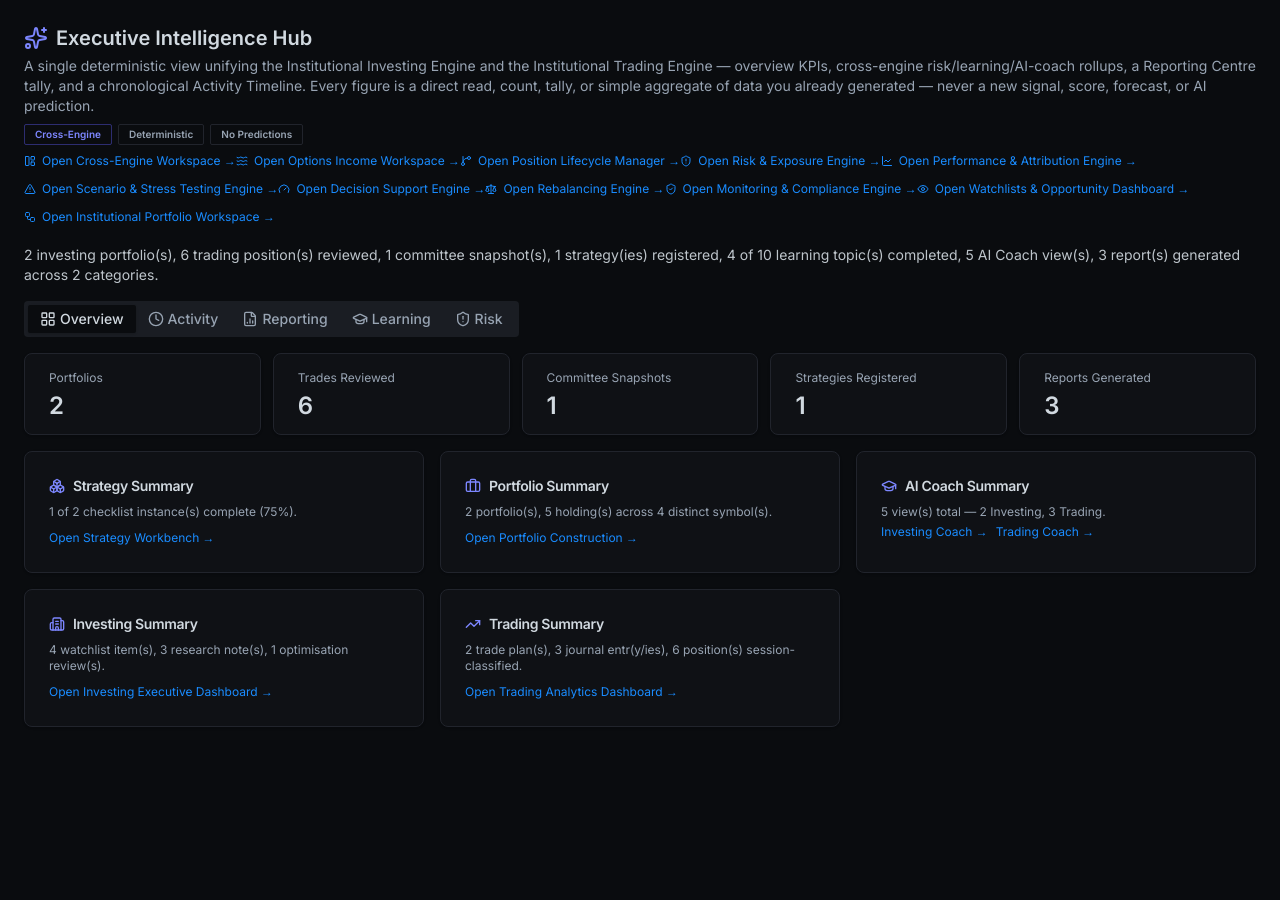
Test: ExecutiveIntelligence page › Activity tab shows a real chronological merge of cross-engine events with deep links
Step 1. Click the tab with test id "tab-executive-activity" → click(183, 319), box [136,305,230,333]
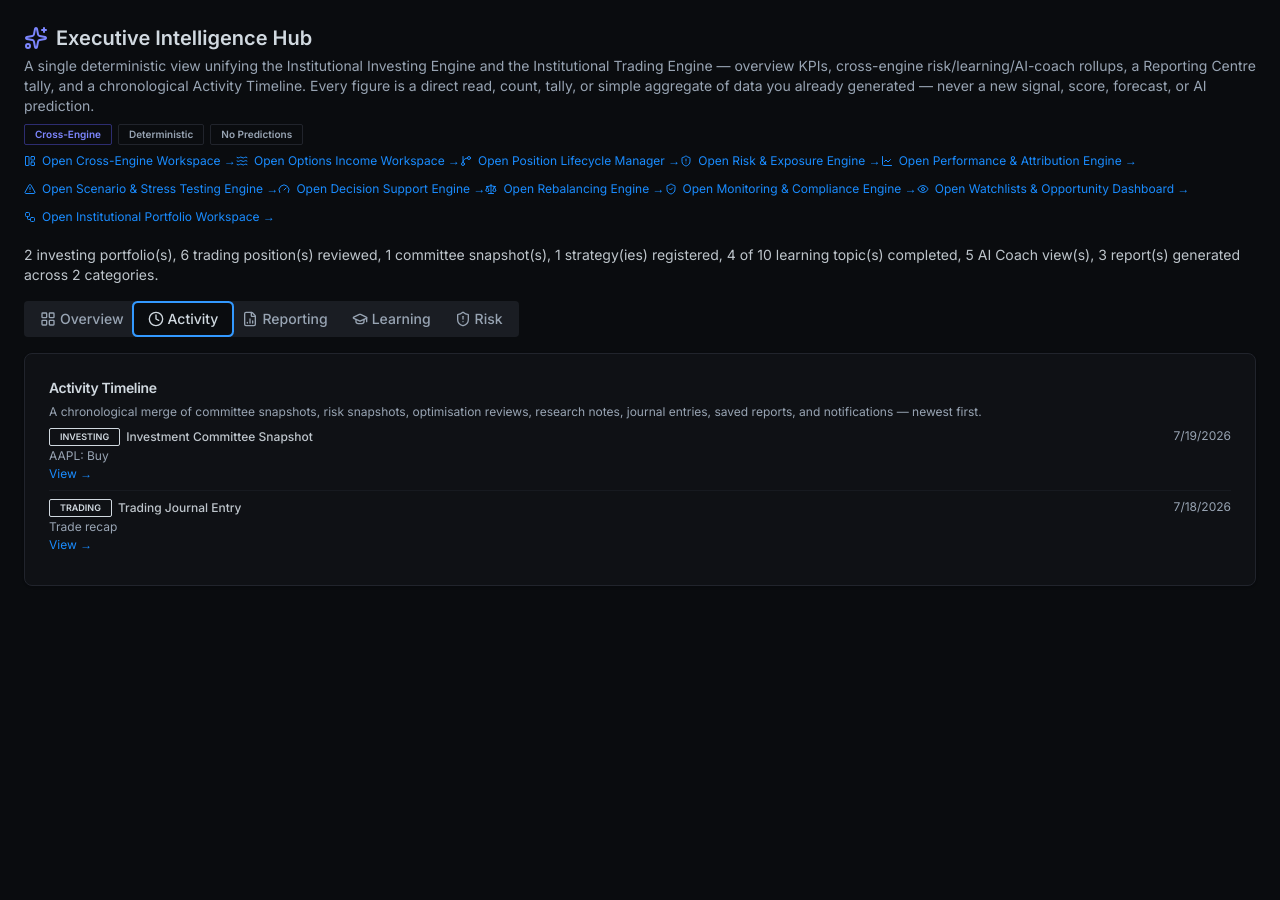
Check: the list item with test id "activity-entry-0" shows "AAPL: Buy", box [49,448,109,463]
Check: the list item with test id "activity-entry-1" shows "Trade recap", box [49,519,117,534]
